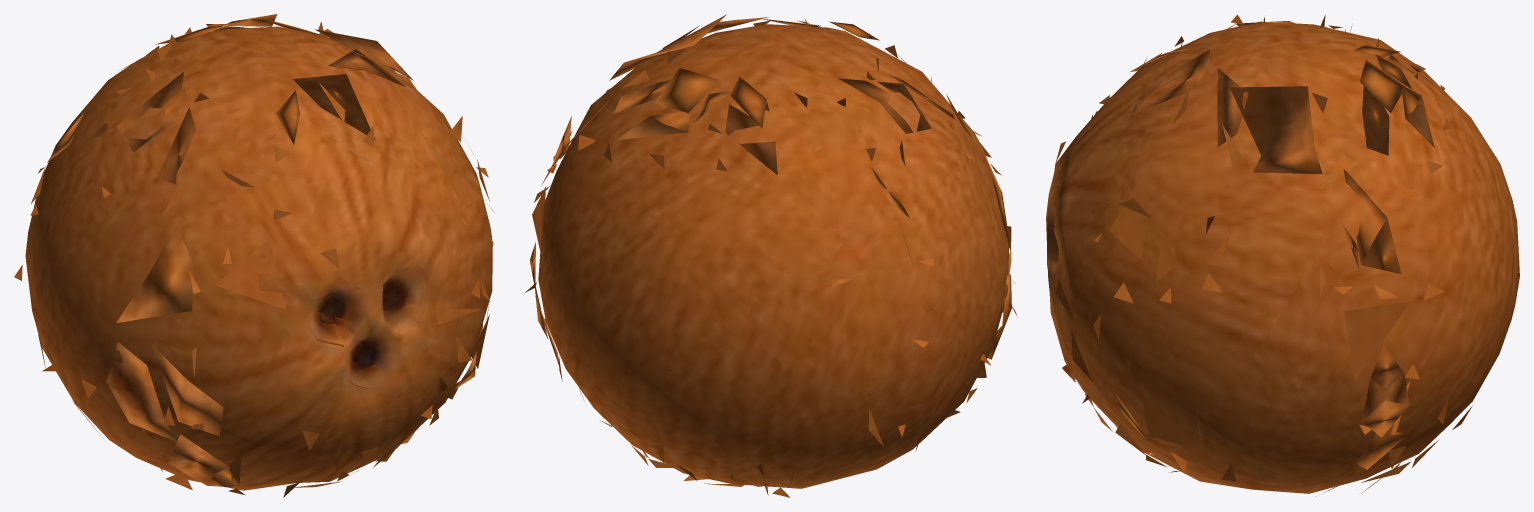
File: coconut.glb
3 renders of one model, left to right at view 1: azimuth 30°, elevation 25°; view 2: azimuth 150°, elevation 25°; view 3: azimuth 270°, elevation 25°, orthographic.
Bounding box in the file's own units: 0.998 × 0.9902 × 1.
1 material, 1 textured.
